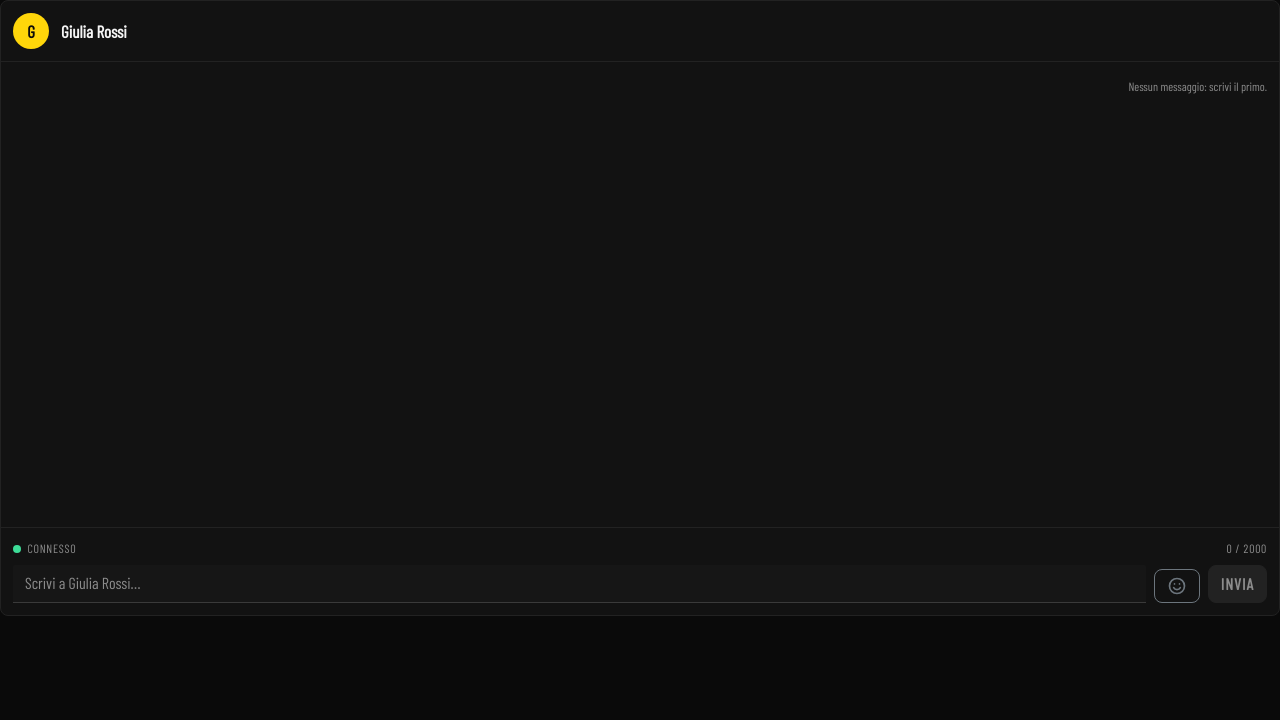
Scenario: ConversationView · invio in attesa › il segnaposto «Invio…» compare solo dopo 300 ms senza eco, con il testo inviato
This screenshot has width=1280, height=720.
Type "Ciao" into the text box named "Messaggio per Giulia Rossi" at (579, 584), box x1=13 y1=565 x2=1146 y2=603
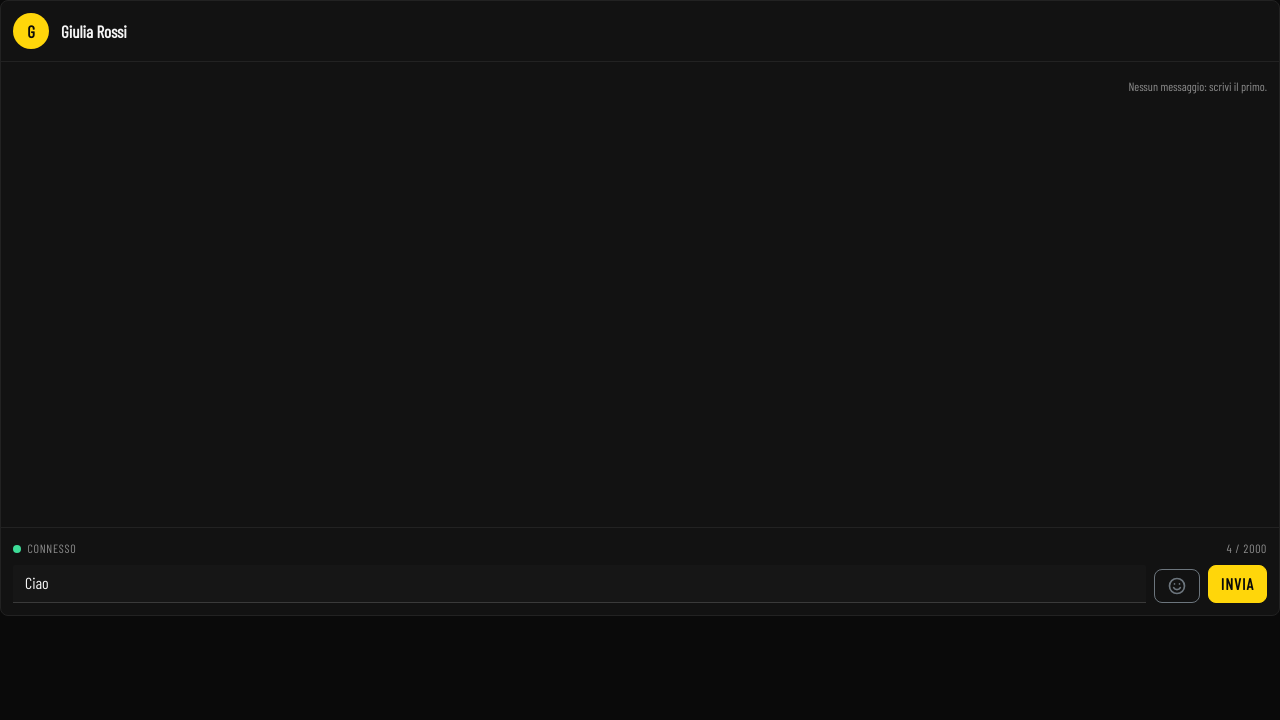
Press Enter in the text box named "Messaggio per Giulia Rossi", box x1=13 y1=565 x2=1146 y2=603
Wait 300 ms
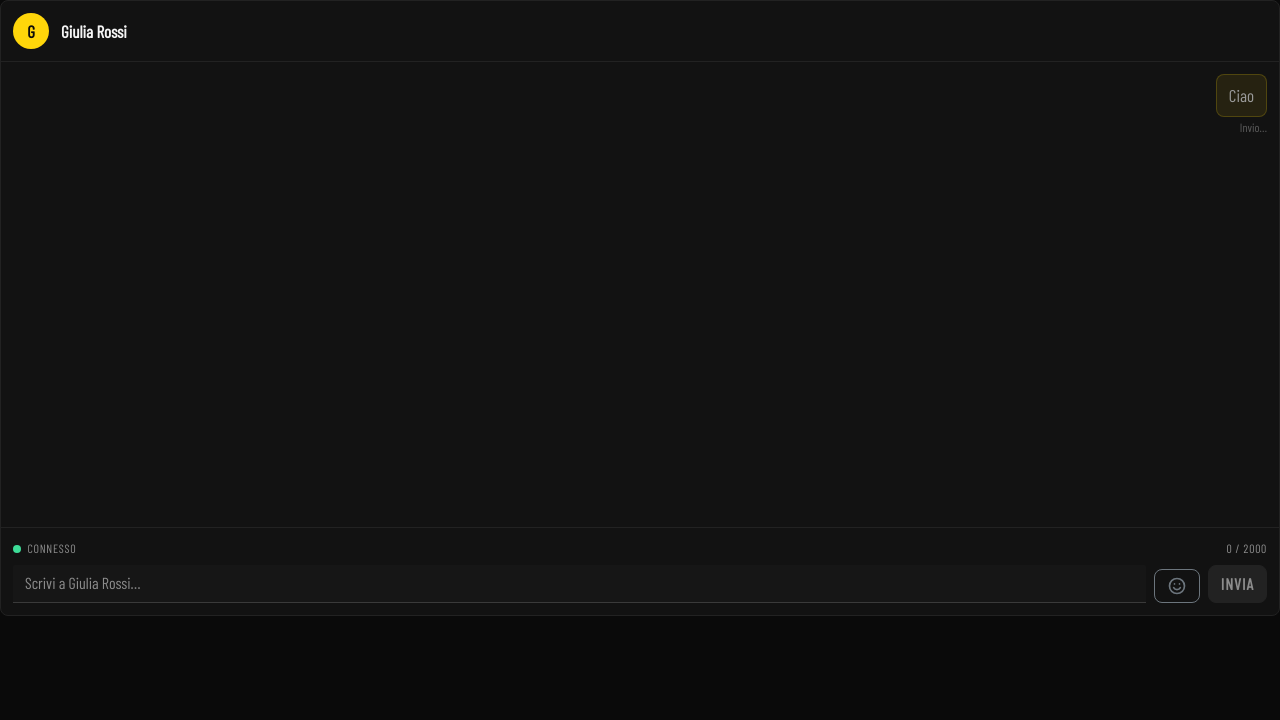
expect the text "Invio…" is shown: met, box x1=1240 y1=119 x2=1267 y2=136
expect the text "Ciao" is shown: met, box x1=1229 y1=85 x2=1254 y2=105
